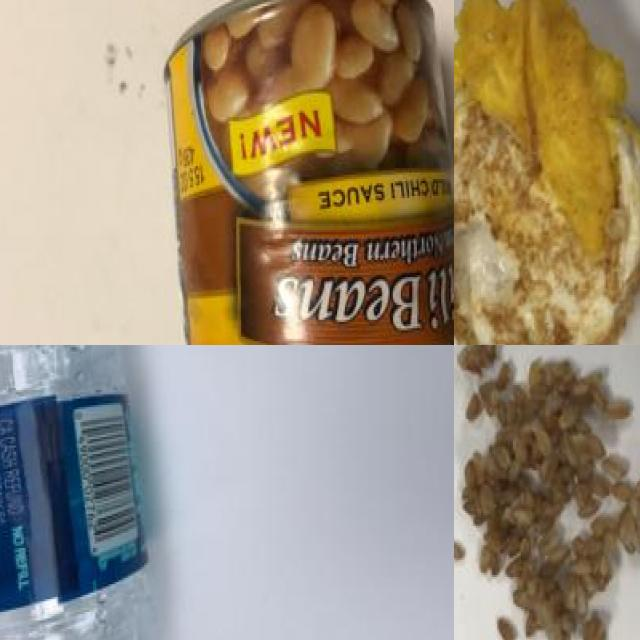compost: (454, 0, 640, 345), (454, 345, 640, 640)
plastic: (141, 0, 454, 345), (0, 345, 167, 640)
